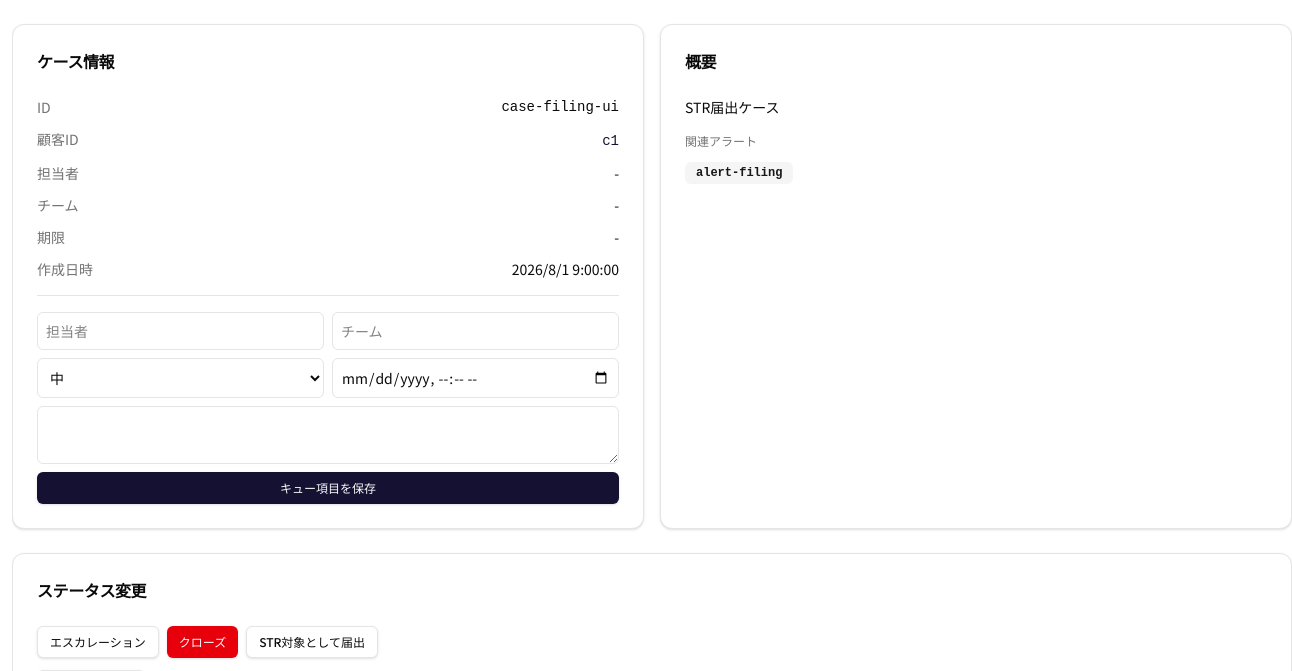
Test: files a case only with a submitted report and keeps filing input after a conflict
This screenshot has width=1292, height=671.
Expected: the text "STR届出ケース" is shown, [685,97,780,117]
Click the button "STR対象として届出". click: click(312, 642)
box: [246,626,378,658]
(page scrolled)
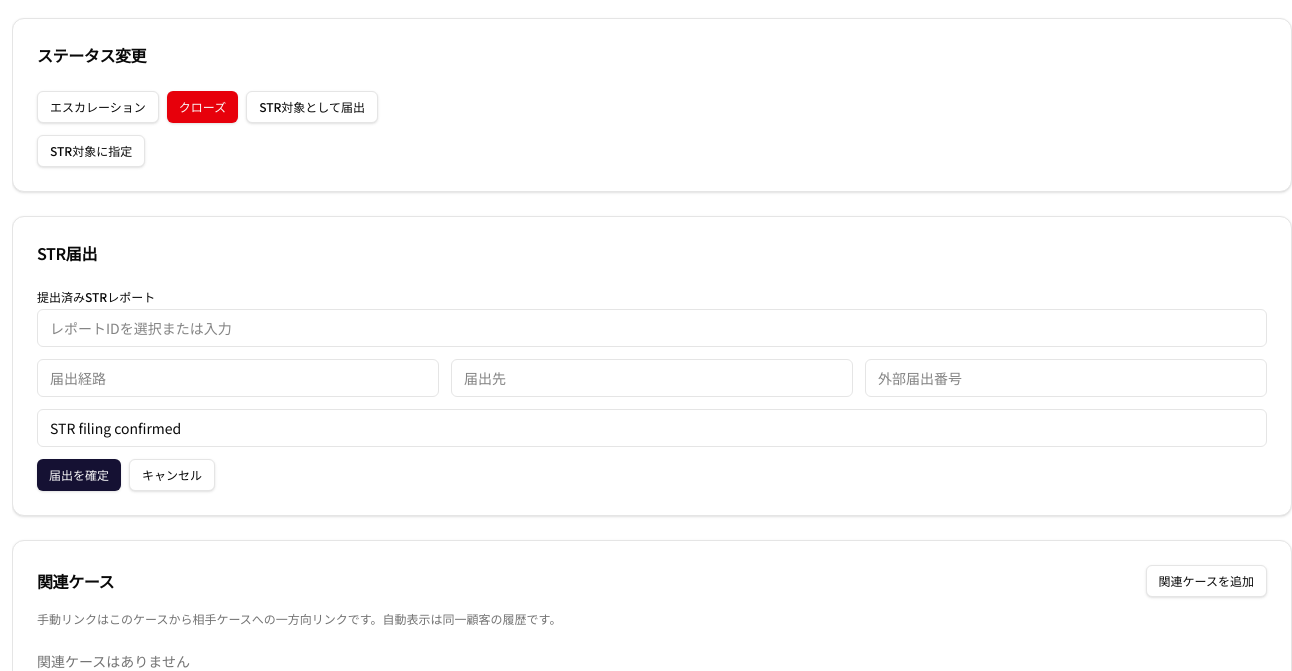
Result: the text "STR届出" is shown at [37,241,97,265]
Type "report-submitted-ui" into the field with placeholder "レポートIDを選択または入力". click: (652, 328)
box: [37,309,1267,347]
Type "secure-portal" into the field with placeholder "届出経路". click: (238, 378)
box: [37,359,439,397]
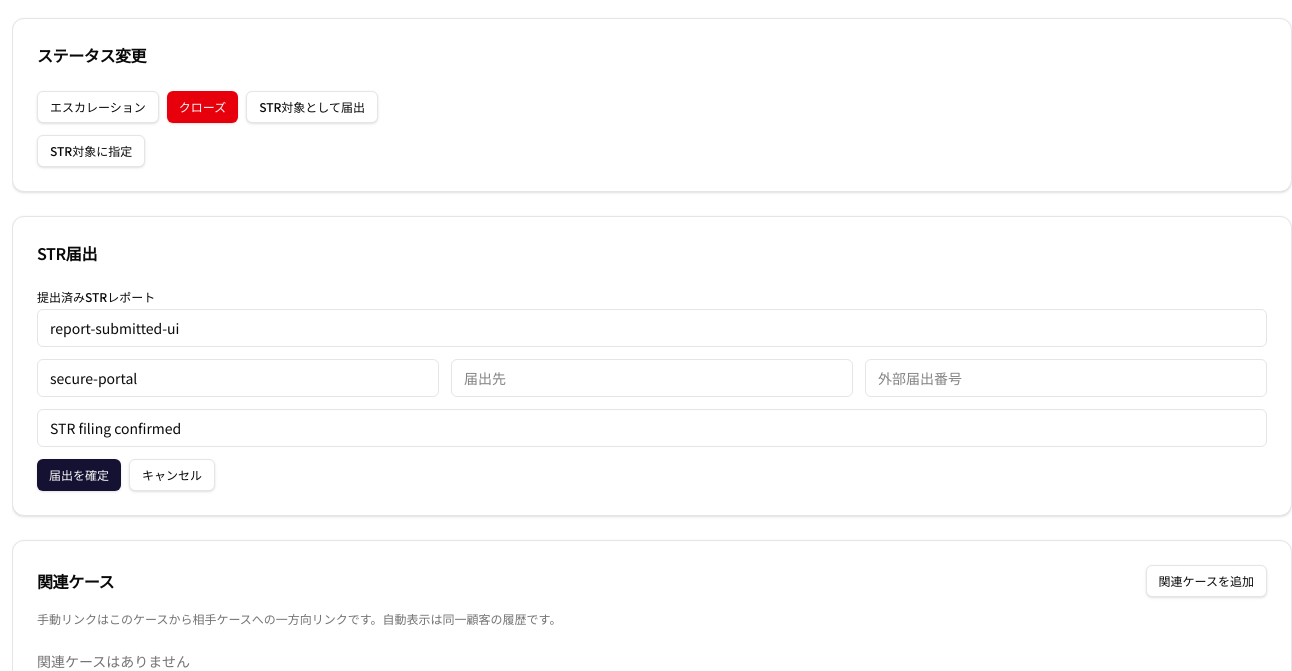
Type "JAFIC" into the field with placeholder "届出先". click: (652, 378)
box: [451,359,853,397]
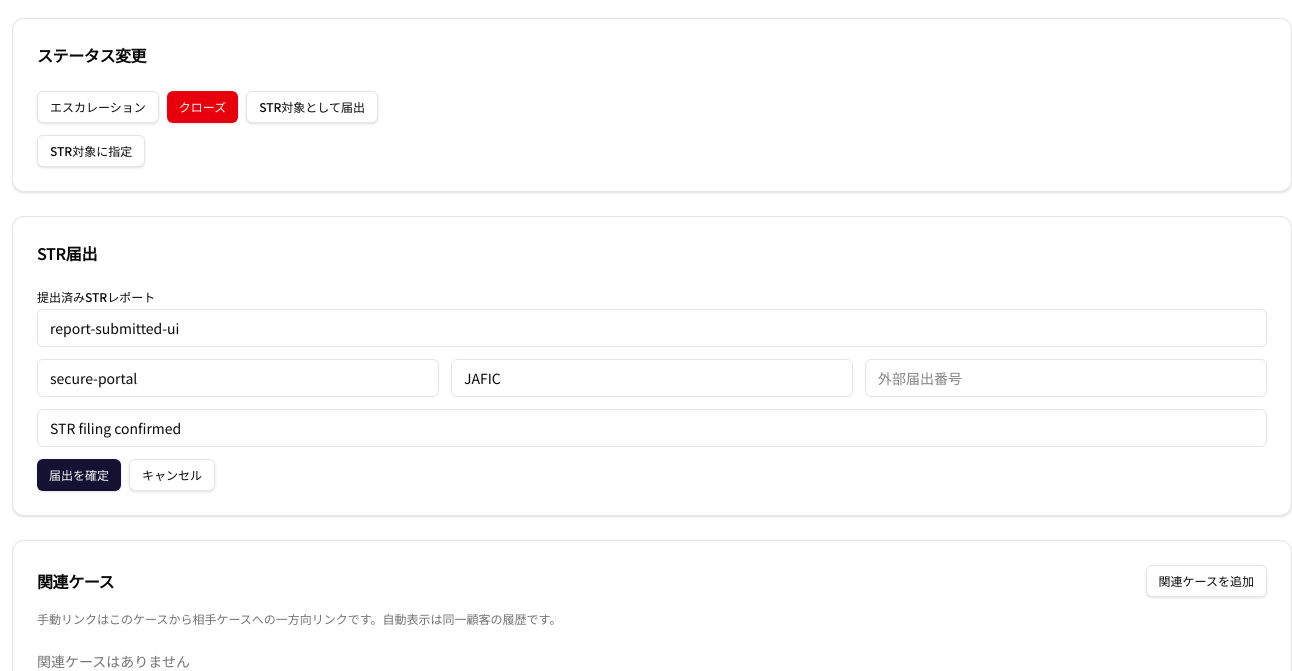
Type "receipt-1" into the field with placeholder "外部届出番号". click: (1066, 378)
box: [865,359,1267,397]
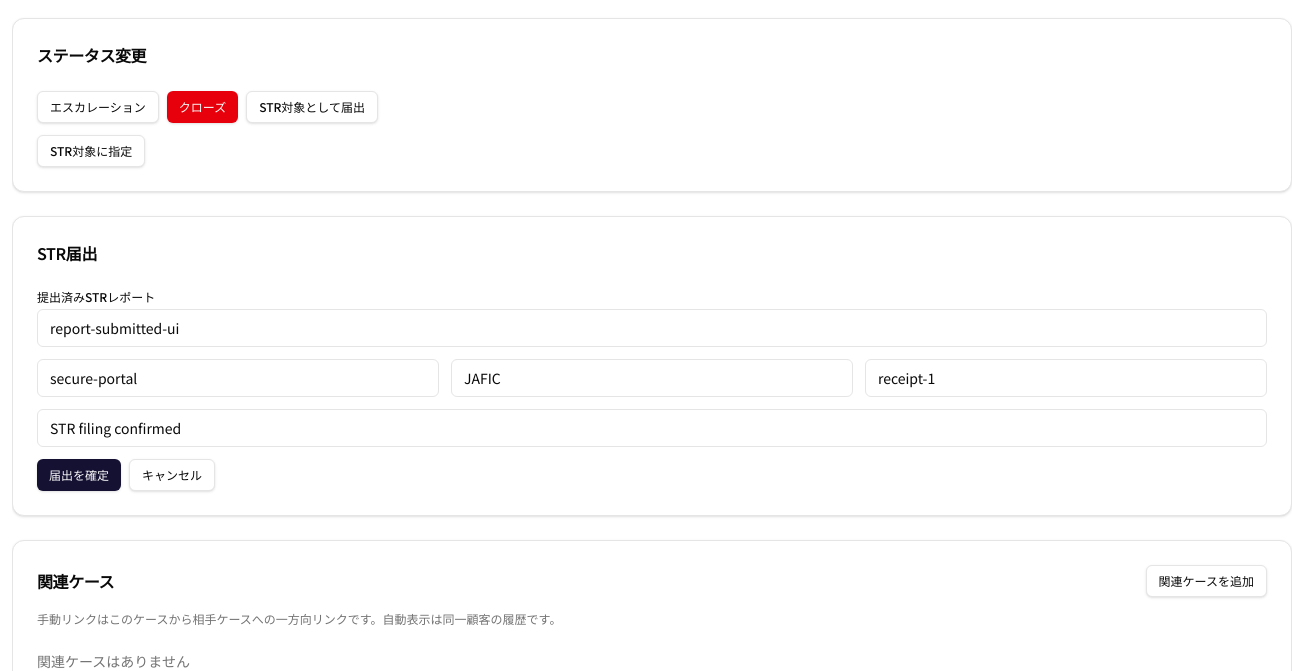
Replace the text in the field named "根拠" with "届出内容を確認済み". click: (652, 428)
box: [37,409,1267,447]
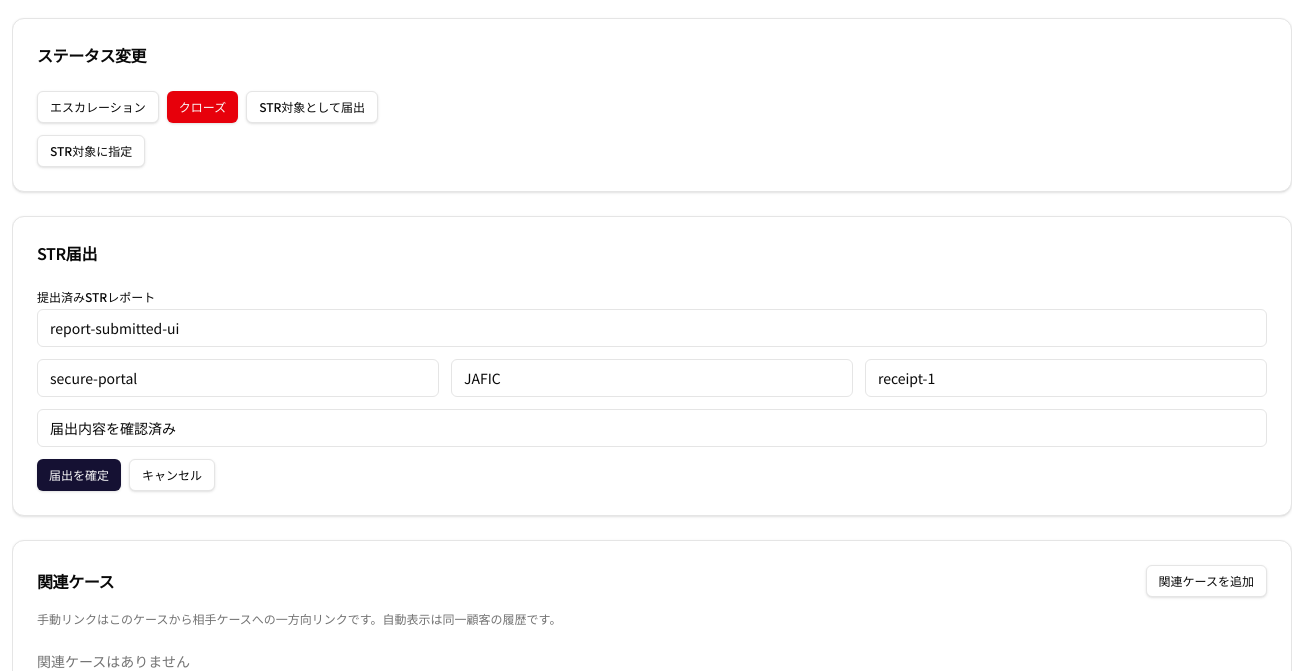
Click the button "届出を確定". click: click(79, 475)
box: [37,459,121,491]
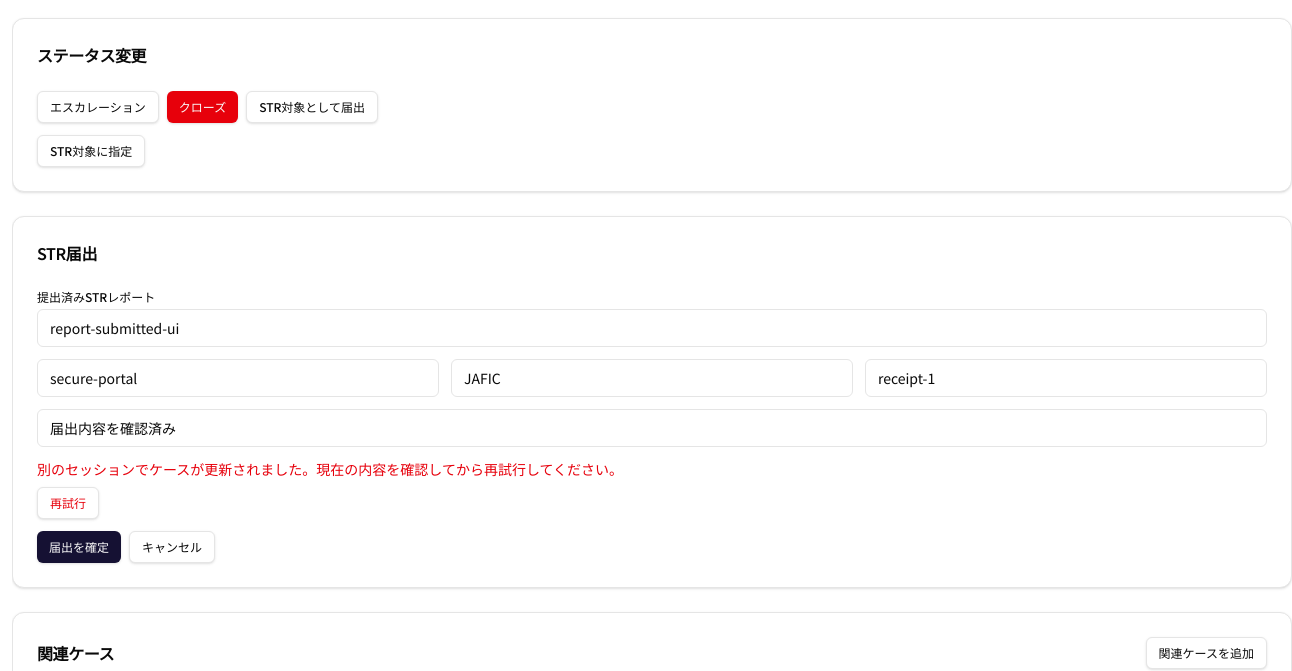
Result: the message shows "別のセッションでケースが更新されました" at [37,459,623,479]
